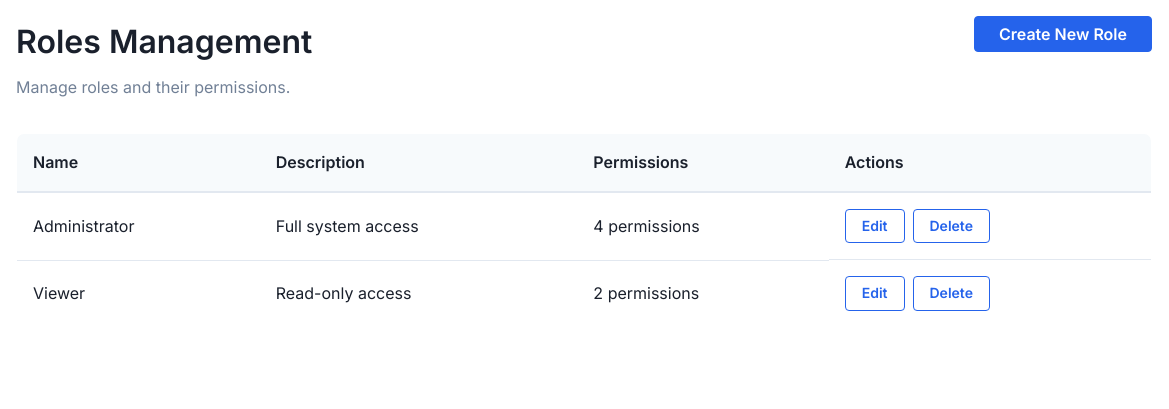
Scenario: RolesManagementBlock › Delete Role › deletes role when confirmed
The width and height of the screenshot is (1169, 409).
Click the button "Delete" in the row of "Administrator".
click(951, 226)  # box x1=912 y1=209 x2=990 y2=244
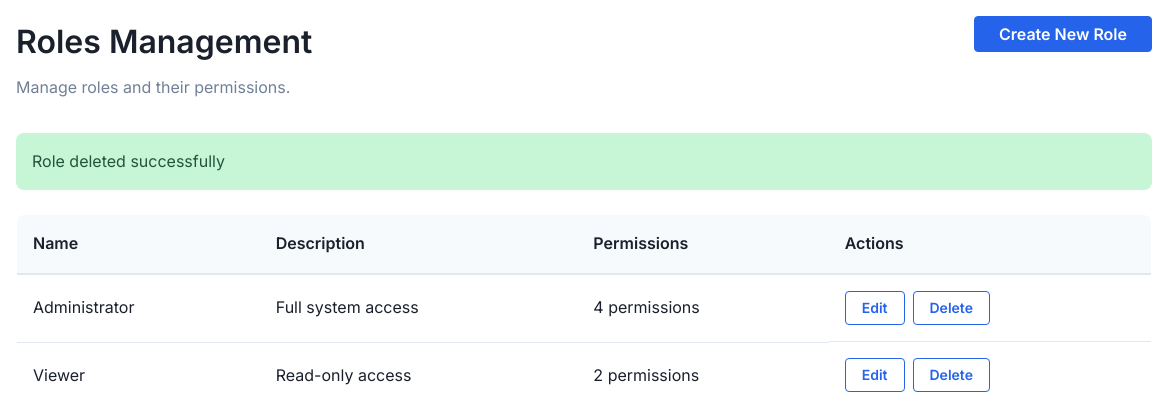
Result: the message reads "Role deleted successfully" at x1=32 y1=151 x2=225 y2=171
